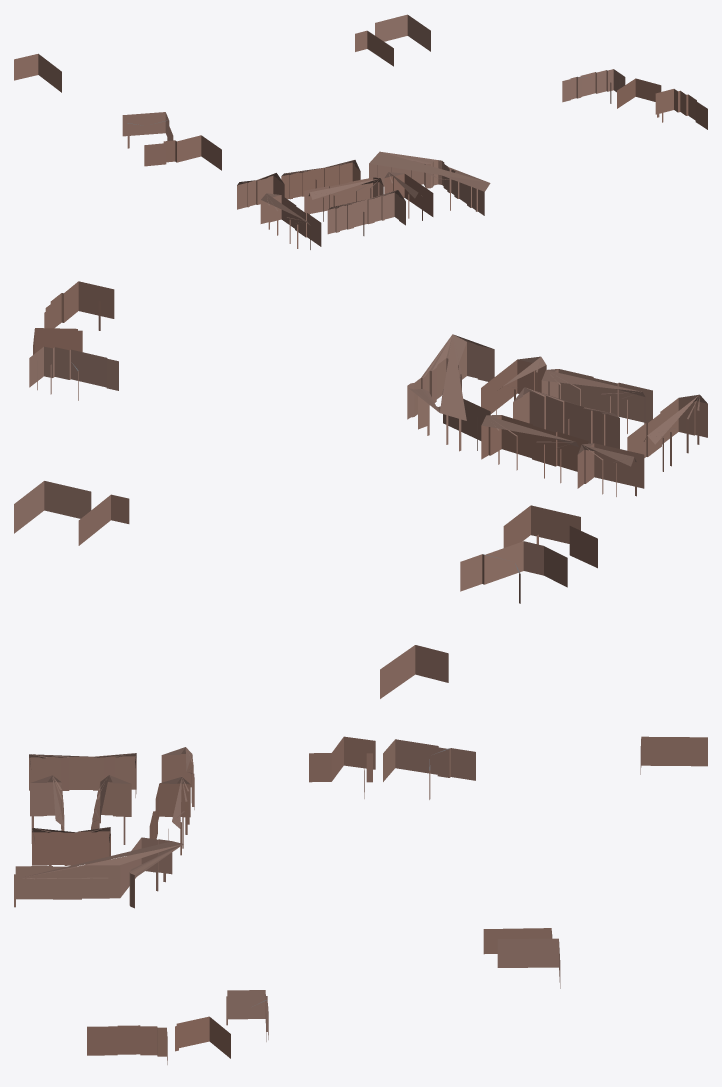
The model's file is c_1635_17832_buildings_residential.glb.
3 renders of one model, top to bottom at view 1: azimuth 30°, elevation 25°; view 2: azimuth 150°, elevation 25°; view 3: azimuth 270°, elevation 25°, orthographic. The views are drawn at different scales.
Parts seen in each view (by area): view 1: geometry_0; view 2: geometry_0; view 3: geometry_0.
Boxes of the visible parts, bbox=[...] form: geometry_0: bbox=[14, 14, 707, 249]; geometry_0: bbox=[14, 281, 707, 698]; geometry_0: bbox=[14, 736, 707, 1064].
Bounding box in the file's own units: 253 × 17.21 × 239.
